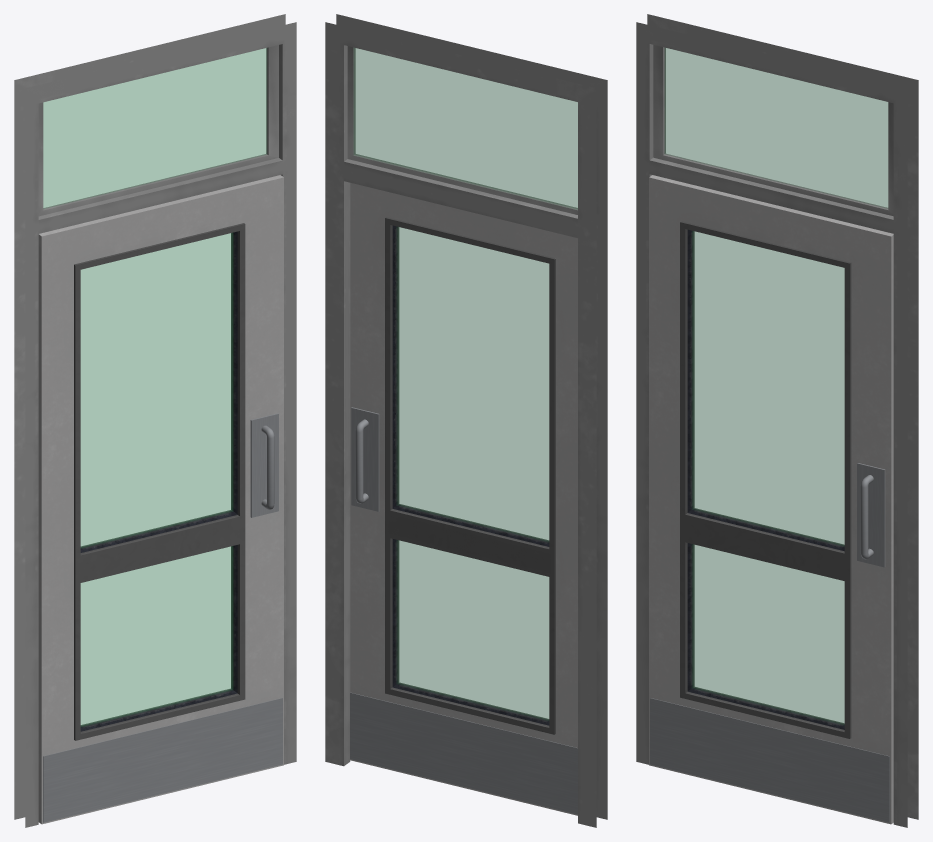
File: DoorC.fbx
3 views of the same model, side by side, from view 1: azimuth 30°, elevation 25°; view 2: azimuth 150°, elevation 25°; view 3: azimuth 330°, elevation 25° (orthographic).
Visible parts, largest first — view 1: Glass (×2), Door, Frame; view 2: Glass (×2), Door, Frame; view 3: Glass (×2), Door, Frame.
Part boxes in pixels (left/top/right/bottom): Glass (×2): left=43, top=48, right=266, bottom=726; Door: left=38, top=175, right=283, bottom=824; Frame: left=14, top=14, right=296, bottom=827; Glass (×2): left=353, top=48, right=577, bottom=720; Door: left=350, top=183, right=577, bottom=815; Frame: left=325, top=14, right=607, bottom=827; Glass (×2): left=664, top=48, right=887, bottom=724; Door: left=649, top=175, right=893, bottom=824; Frame: left=636, top=14, right=918, bottom=827.
Bounding box in the file's own units: 102 × 266 × 15.5.
